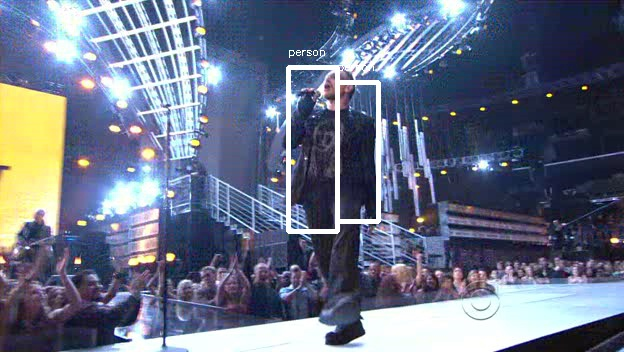person: (289, 69, 368, 232), (286, 69, 365, 232), (292, 69, 371, 232), (289, 66, 368, 229), (289, 72, 368, 235)
target_negative: (180, 292, 553, 346), (151, 242, 343, 333), (21, 277, 74, 351), (474, 96, 497, 224), (583, 141, 615, 170), (187, 189, 502, 191)
